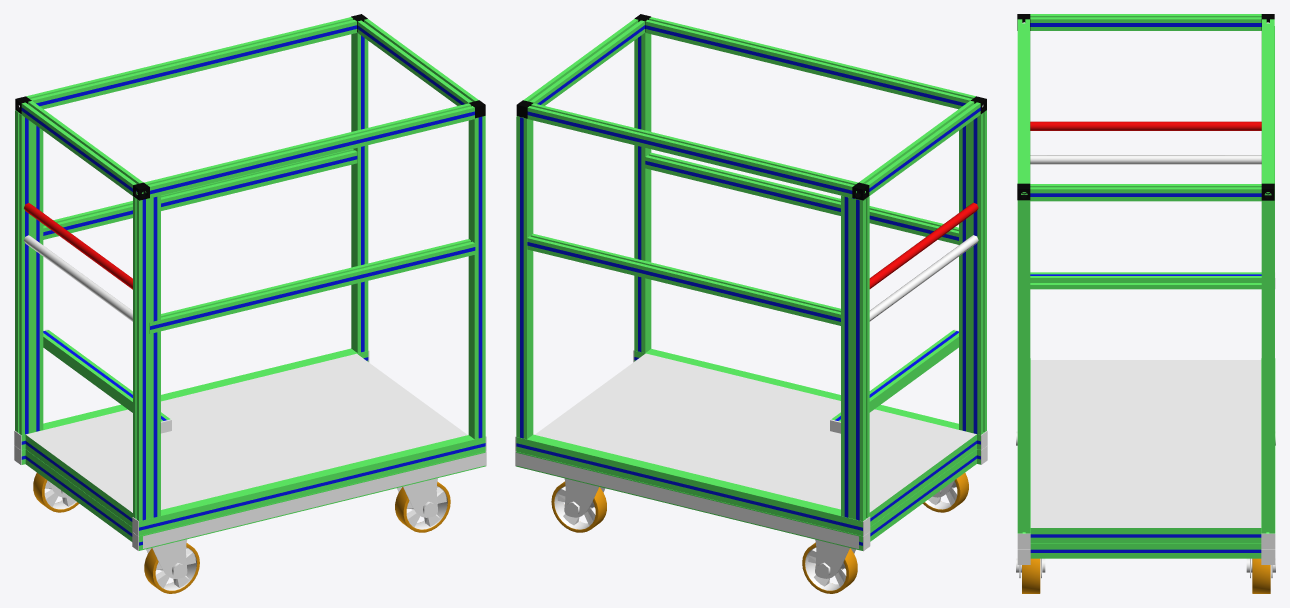
Rendered from RC11 Elekto 1 mit Kochfelder.FBX.
The picture shows the model from 3 angles, left to right: view 1: azimuth 30°, elevation 25°; view 2: azimuth 150°, elevation 25°; view 3: azimuth 270°, elevation 25°; orthographic projection. The views are drawn at different scales.
Visible parts, largest first — view 1: Trolly_10; view 2: Trolly_10; view 3: Trolly_10.
Part boxes in pixels (x1,y1,x2,y2): Trolly_10: [14, 14, 486, 593]; Trolly_10: [515, 14, 987, 593]; Trolly_10: [1016, 14, 1275, 593].
Size of the model in its own units: 12.55 by 14.3 by 7.82.
